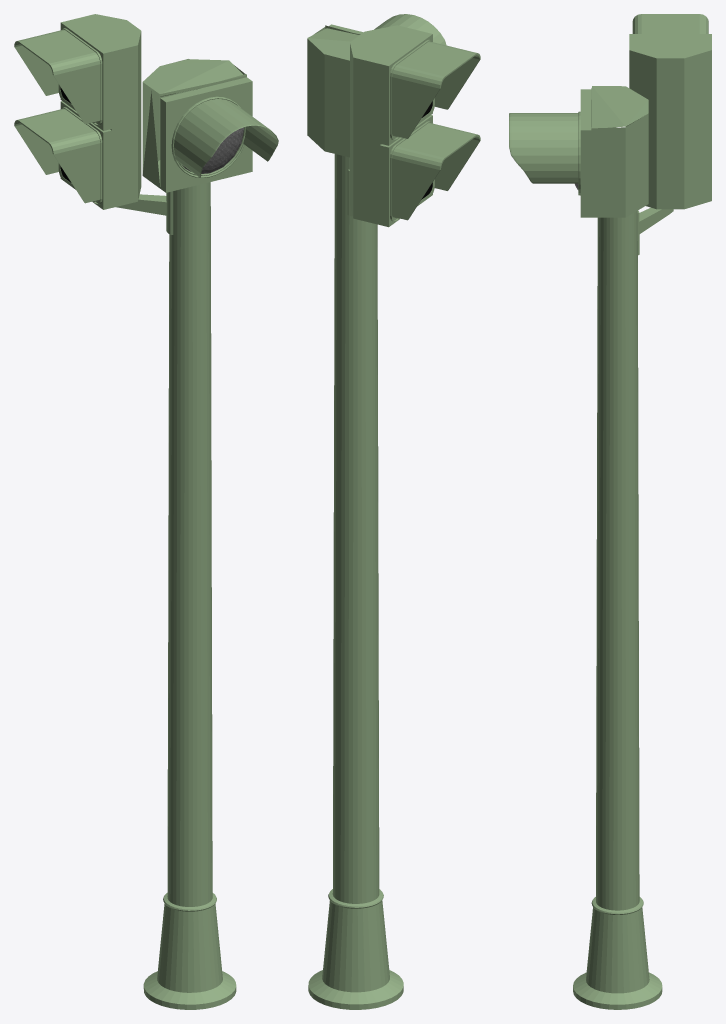
The model's file is w_highway_traffic_signals_pedestrian - copia.glb.
3 renders of one model, left to right at view 1: azimuth 30°, elevation 25°; view 2: azimuth 150°, elevation 25°; view 3: azimuth 270°, elevation 25°, orthographic. The views are drawn at different scales.
Parts seen in each view (by area): view 1: semaforo (SU 2017); view 2: semaforo (SU 2017); view 3: semaforo (SU 2017).
Part boxes in pixels (x1,y1,x2,y2): semaforo (SU 2017): (14,14,278,1009); semaforo (SU 2017): (307,14,480,1009); semaforo (SU 2017): (509,14,711,1009).
Bounding box in the file's own units: 0.4744 × 2.51 × 0.5014.
Materials: 5 (3 with a texture image).
